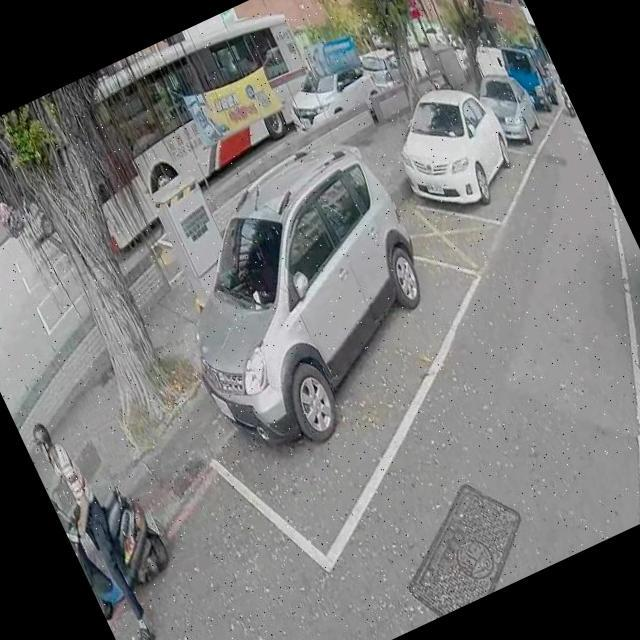person: (17, 405, 169, 640), (552, 66, 570, 100), (0, 193, 15, 227)
